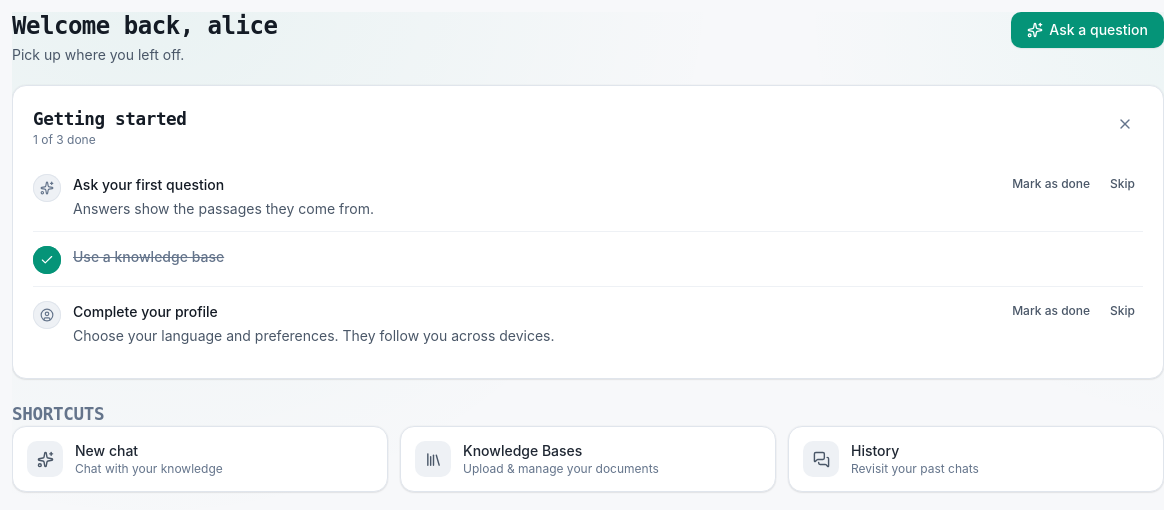
it: Getting started state › hides the whole card with PATCH
What coordinates should you click on to do the following:
click the button named "Hide Getting started"
I would click on:
 (1125, 124)
Its box is [1107,106,1143,142].
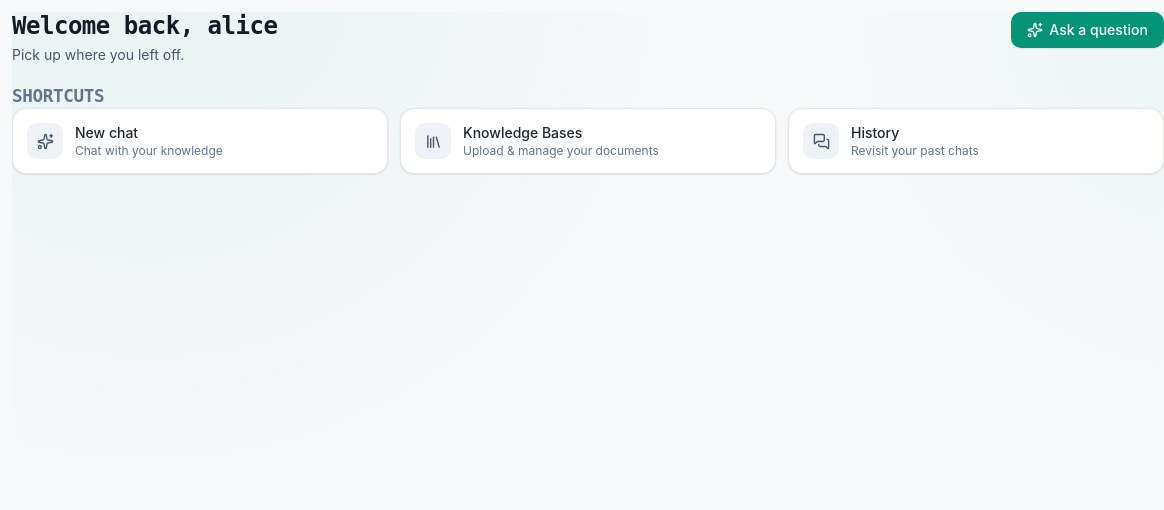
Check: the heading "Getting started" is gone
